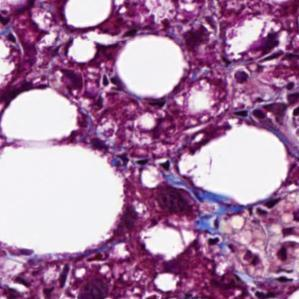inflammation: (0, 262, 75, 299), (227, 88, 299, 125), (268, 224, 299, 285), (116, 148, 173, 173)
